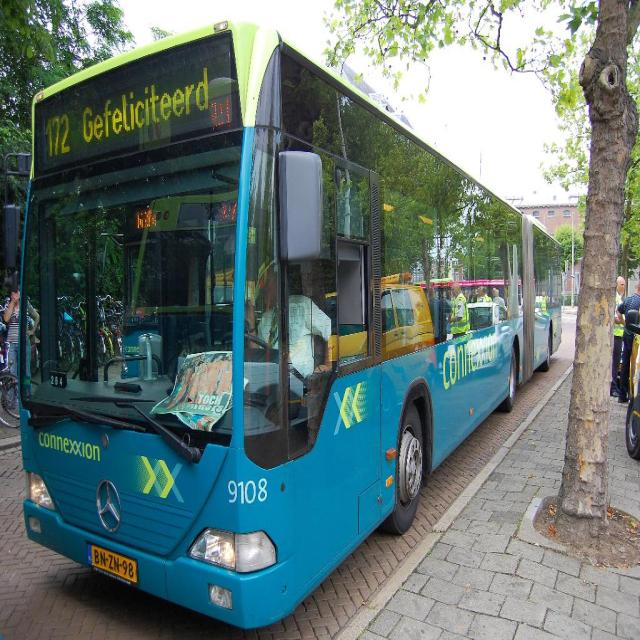Buses: (16, 21, 567, 634)
